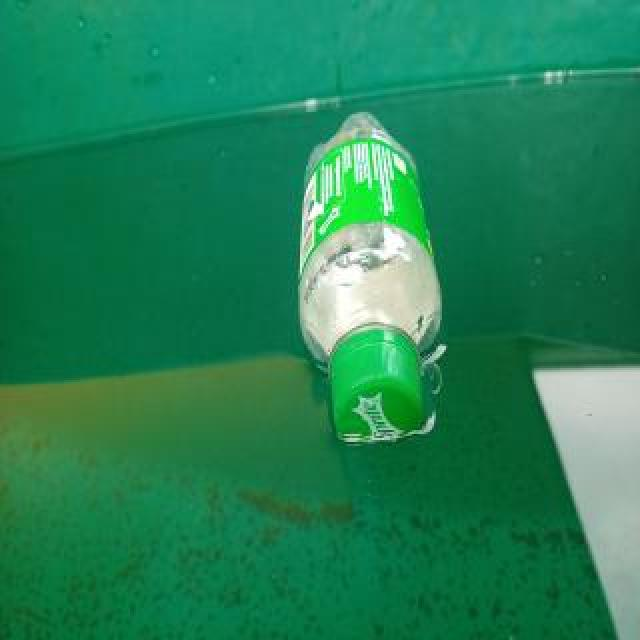Plastic Bottle: (297, 104, 445, 444)
